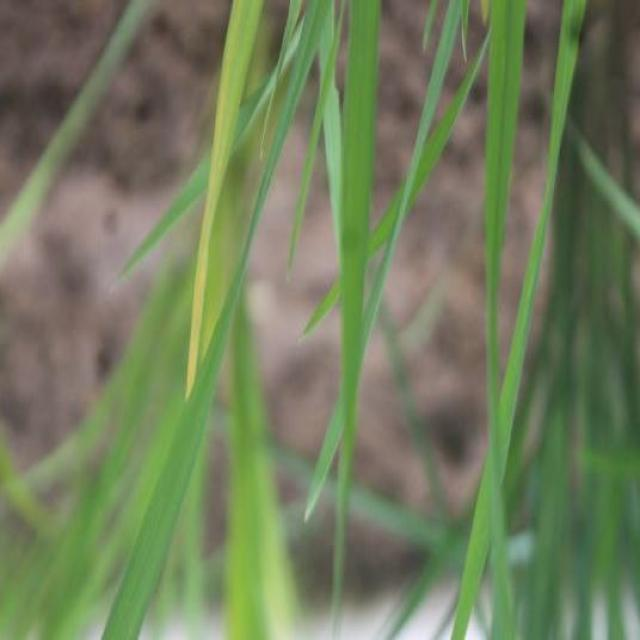Rice Tungro: (186, 59, 220, 383)
